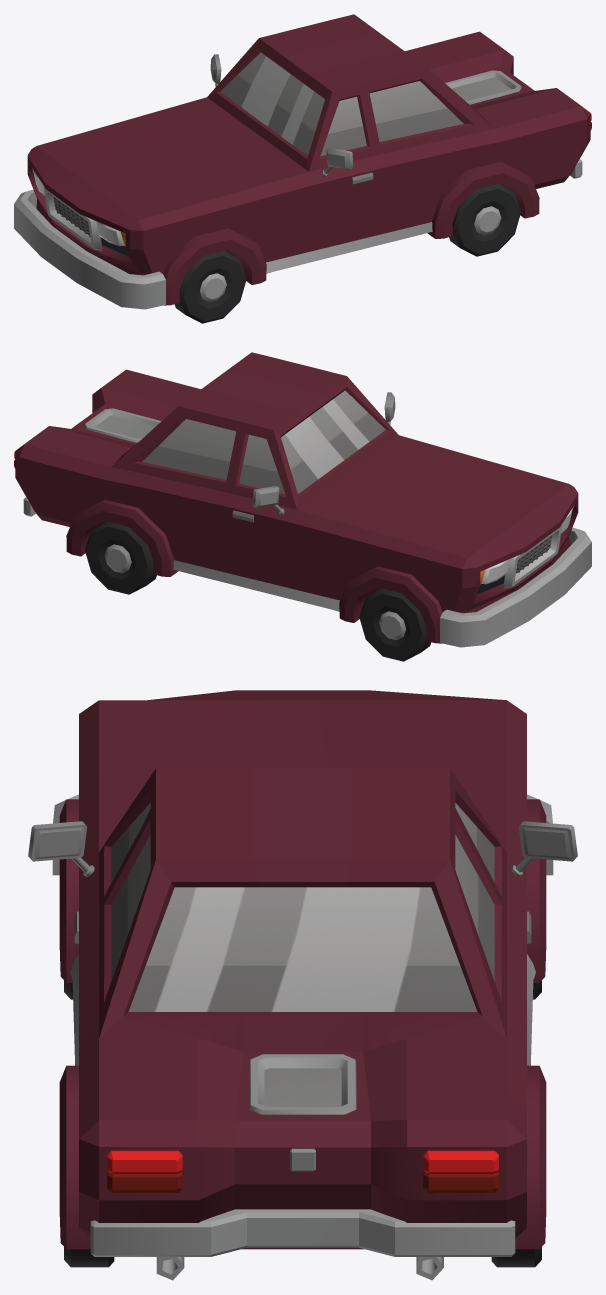
File: Car_18_A.gltf
3 views of the same model, one above another, from view 1: azimuth 30°, elevation 25°; view 2: azimuth 150°, elevation 25°; view 3: azimuth 270°, elevation 25° (orthographic). The views are drawn at different scales.
Parts seen in each view (by area): view 1: Car_18_U, RL, FL; view 2: Car_18_U, RR, FR; view 3: Car_18_U.
Part boxes in pixels (box(x1,y1,x2,y2)): Car_18_U: box(14, 14, 591, 309); RL: box(449, 183, 520, 256); FL: box(174, 250, 246, 323); Car_18_U: box(14, 352, 591, 647); RR: box(85, 521, 156, 594); FR: box(359, 588, 431, 661); Car_18_U: box(28, 690, 577, 1280).
Size of the model in its own units: 3.78 by 1.34 by 1.85.
3 materials, 3 textured.
